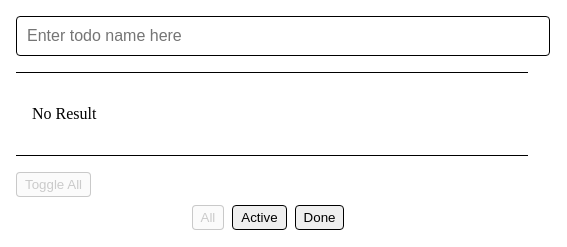
Scenario: TodoList › should add todoItem when user Enter
The width and height of the screenshot is (567, 247).
Type "123" into the field with test id "input-add-todo" at (283, 36), box left=16, top=16, right=550, bottom=56
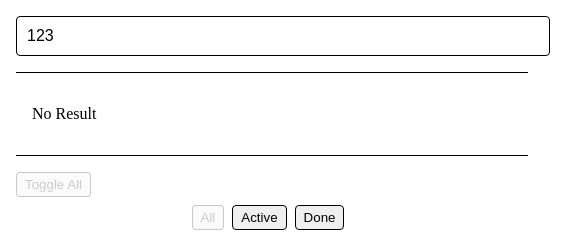
Press Enter in the field with test id "input-add-todo", box left=16, top=16, right=550, bottom=56
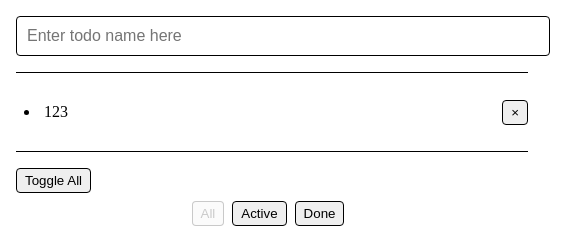
Expected: the field with test id "input-add-todo" is empty, left=16, top=16, right=550, bottom=56
Expected: the element with test id "todo-item" reads "123 ×", left=40, top=93, right=528, bottom=131
